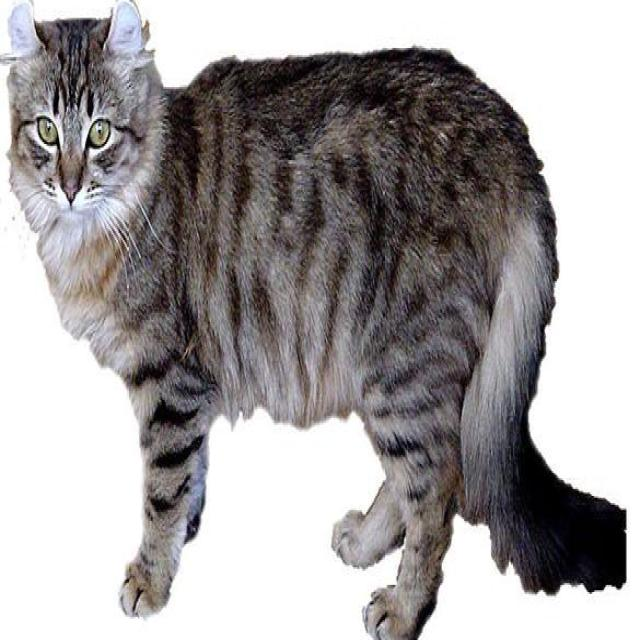American Curl: (1, 0, 627, 640)
